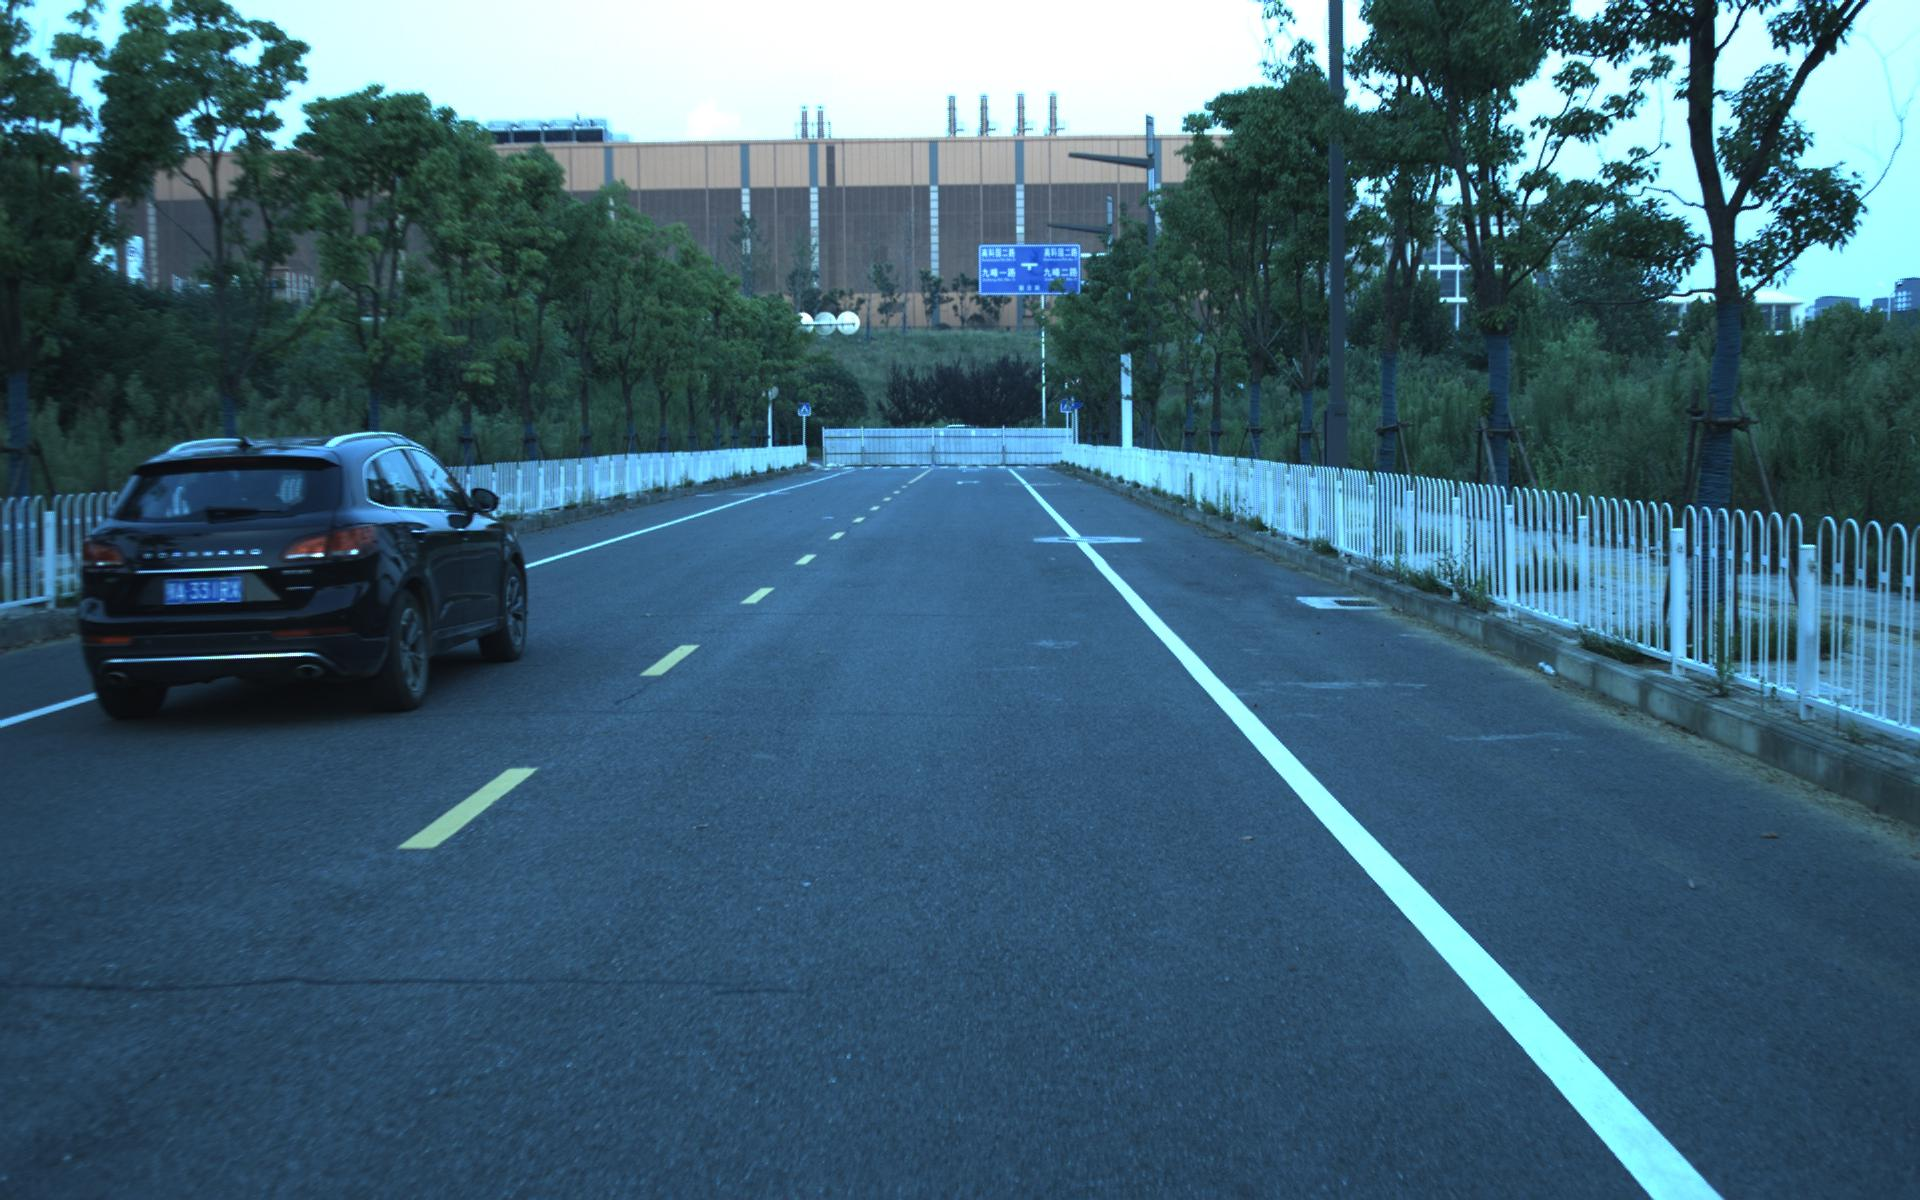Car: (58, 422, 534, 724)
